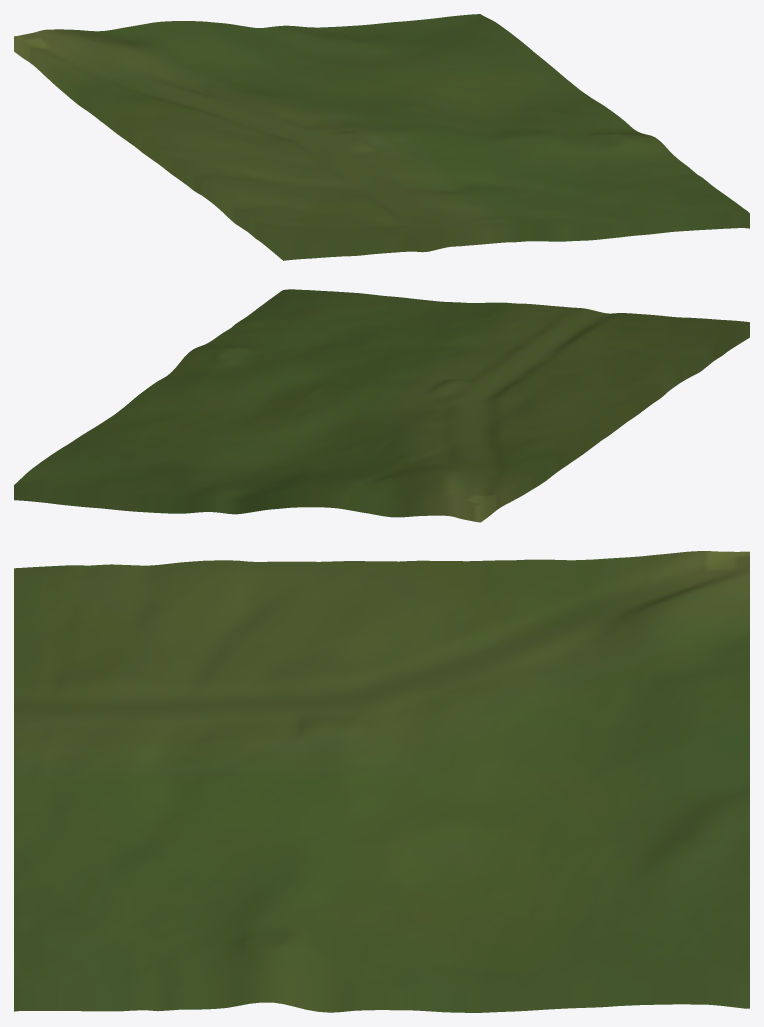
Rendered from terrain_8_-17.glb.
3 renders of one model, top to bottom at view 1: azimuth 30°, elevation 25°; view 2: azimuth 150°, elevation 25°; view 3: azimuth 270°, elevation 25°, orthographic. The views are drawn at different scales.
Visible parts, largest first — view 1: terrain_8_-17; view 2: terrain_8_-17; view 3: terrain_8_-17.
Part boxes in pixels (box(x1,y1,x2,y2)): terrain_8_-17: box(14, 14, 749, 260); terrain_8_-17: box(14, 289, 749, 522); terrain_8_-17: box(14, 551, 749, 1012).
Bounding box in the file's own units: 256 × 57.9 × 256.
